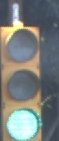Green: (1, 17, 51, 141)
